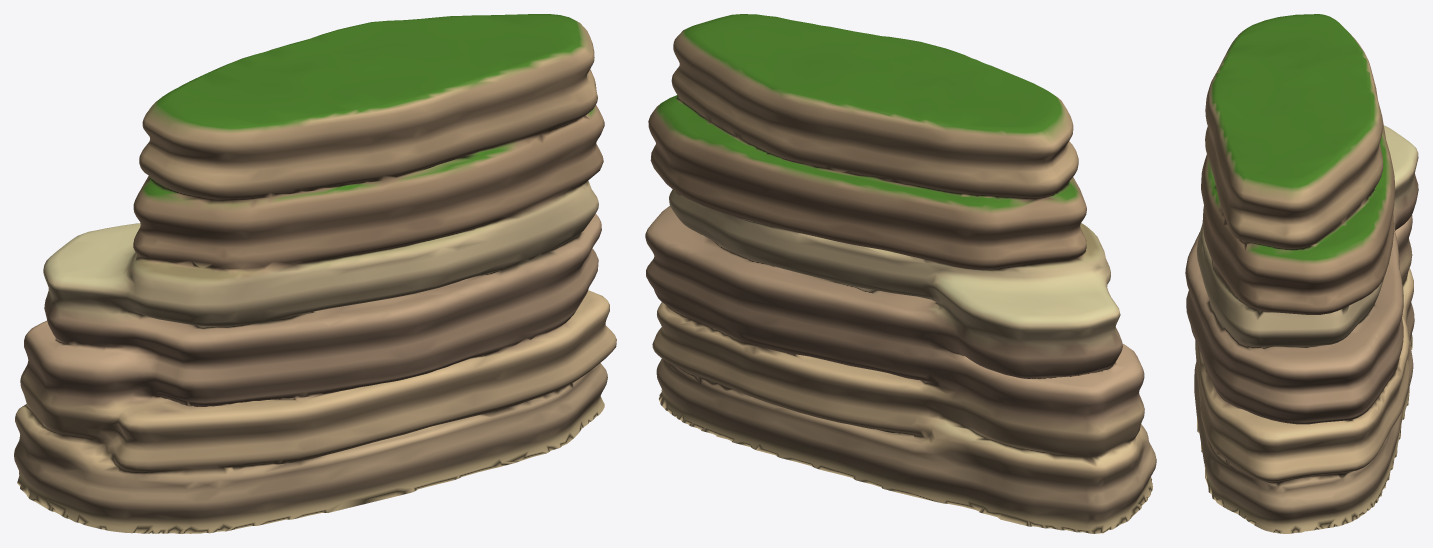
Rendered from cliff_a.glb.
The picture shows the model from 3 angles, left to right: view 1: azimuth 30°, elevation 25°; view 2: azimuth 150°, elevation 25°; view 3: azimuth 270°, elevation 25°; orthographic projection. The views are drawn at different scales.
Visible parts, largest first — view 1: cliff_a_mesh; view 2: cliff_a_mesh; view 3: cliff_a_mesh.
Boxes of the visible parts, bbox=[...] form: cliff_a_mesh: bbox=[14, 14, 616, 533]; cliff_a_mesh: bbox=[645, 14, 1156, 533]; cliff_a_mesh: bbox=[1185, 14, 1418, 533].
Size of the model in its own units: 15.89 by 10.81 by 6.69.
